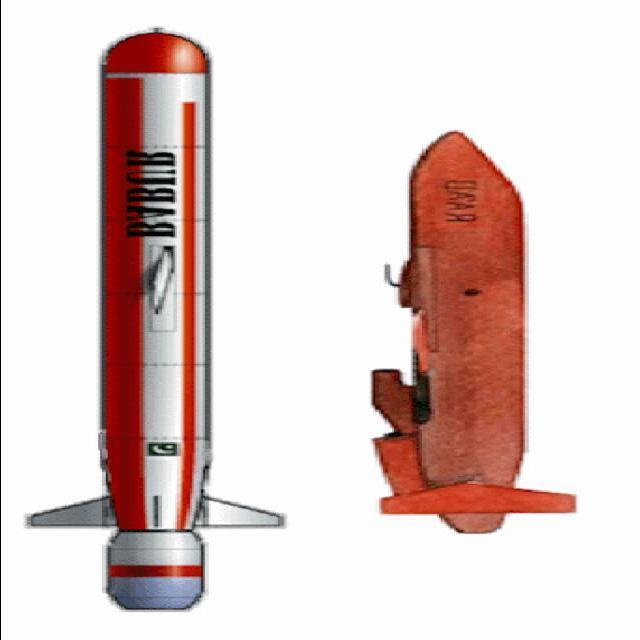Missile: (19, 27, 294, 624)
